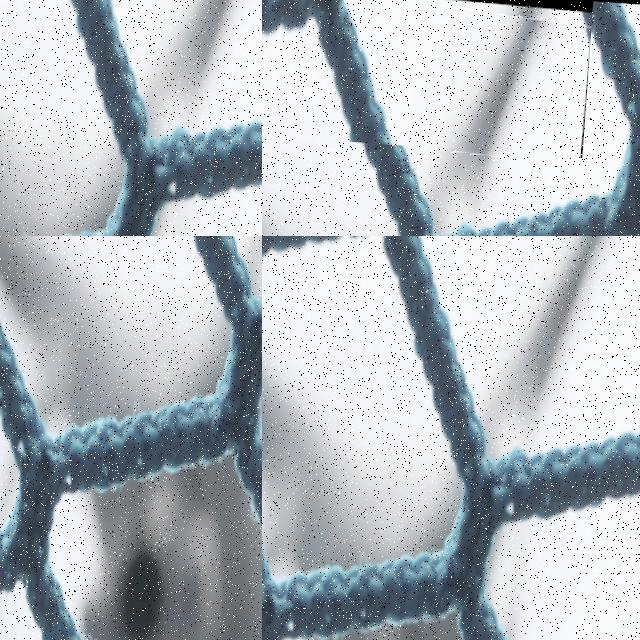drone: (262, 236, 640, 640), (0, 0, 262, 236), (262, 0, 593, 157)
